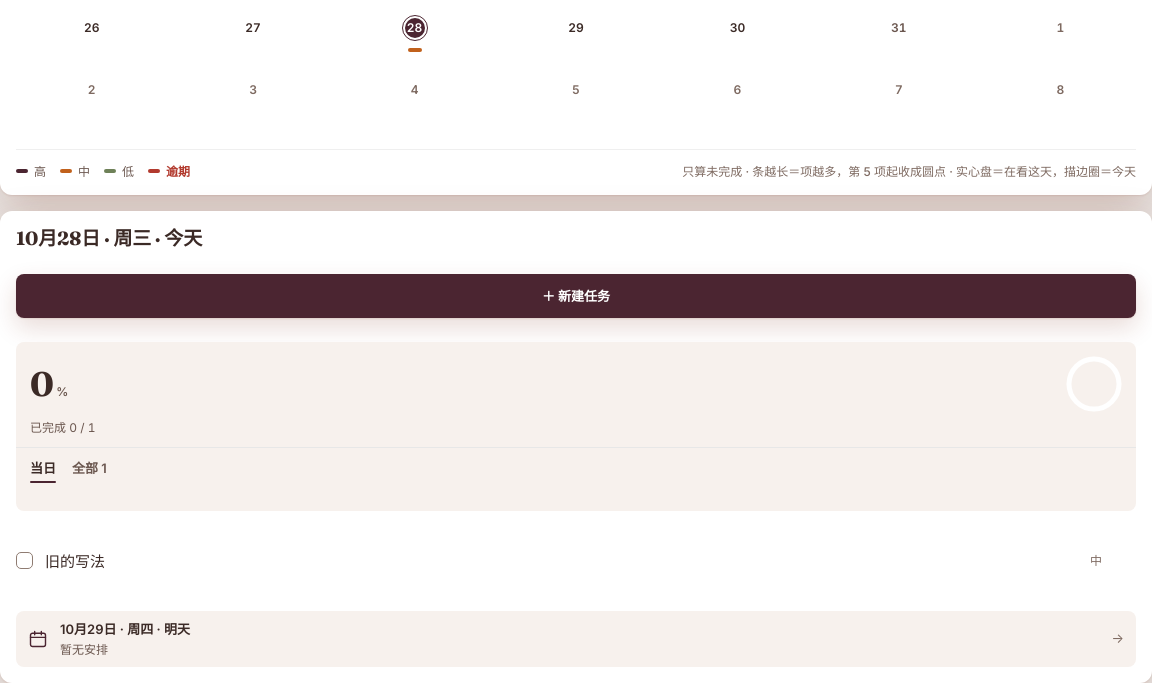
Test: TasksView row editing › rewrites a title in place: the words are the handle, Enter files it
(page scrolled)
Click the button "旧的写法" at (75, 562), box [45,550,1075,571]
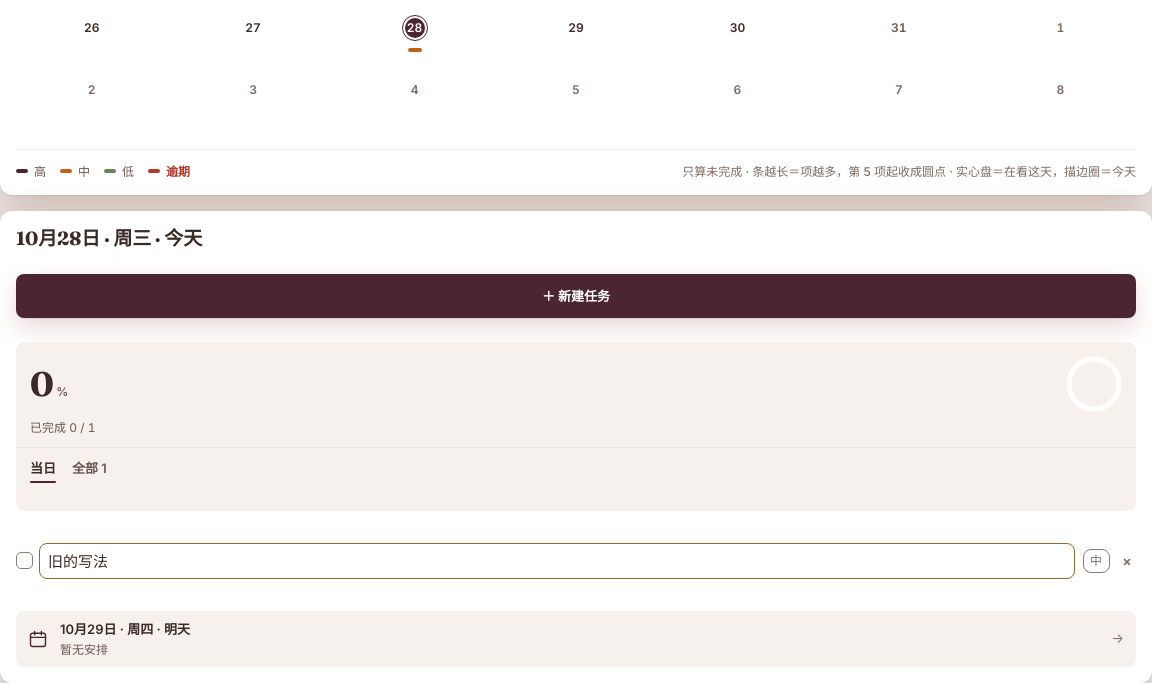
Expected: the field named "修改「旧的写法」" is shown
Expected: the field named "修改「旧的写法」" holds "旧的写法"
Replace the text in the field named "修改「旧的写法」" with "新的写法" at (557, 561), box [39,543,1075,579]
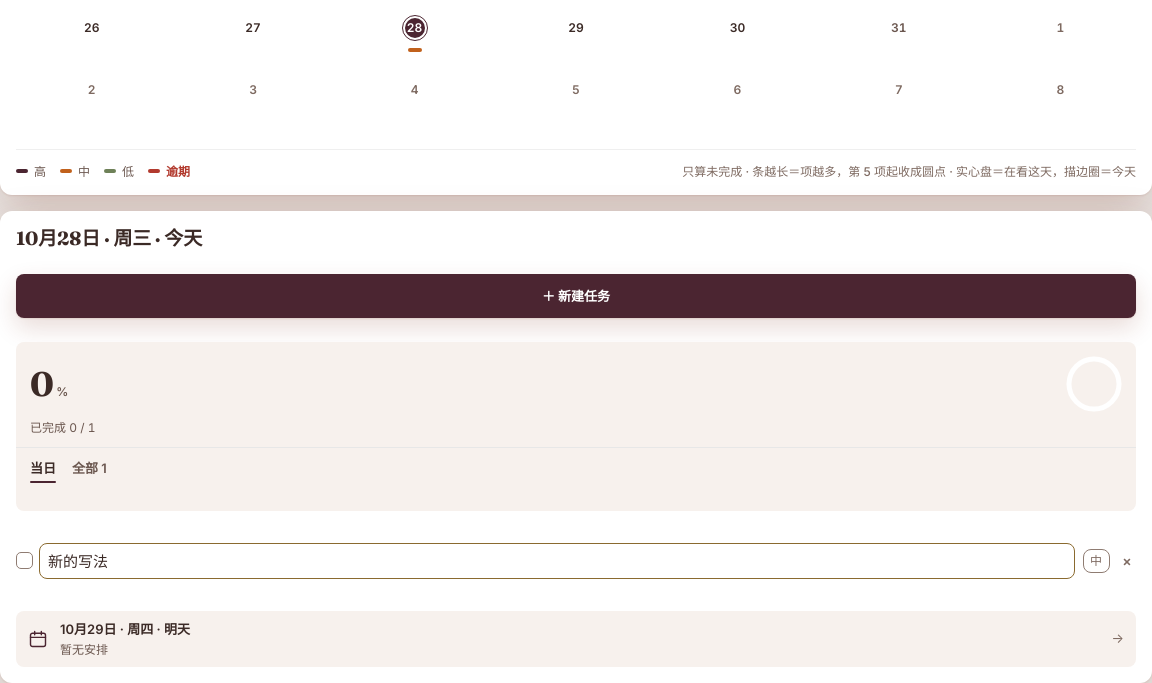
Press Enter in the field named "修改「旧的写法」", box [39,543,1075,579]
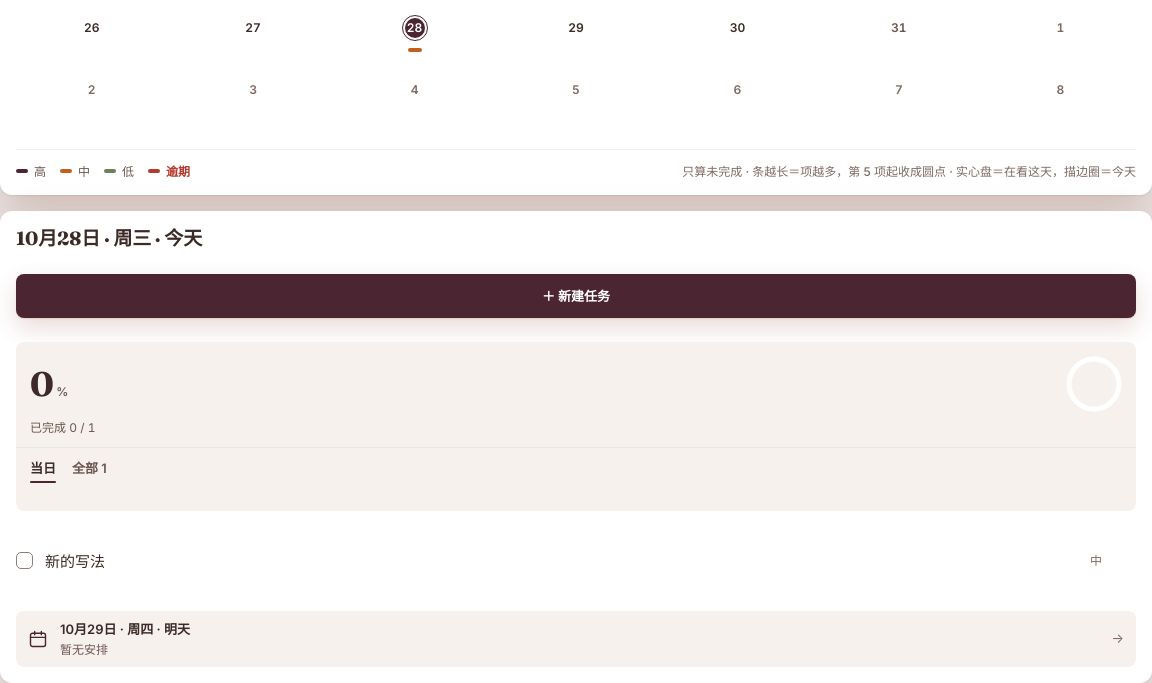
Expected: the number of icons with class "slice" is 1, [408,48,422,52]
Expected: the button "新的写法" is shown, [45,550,1075,571]
